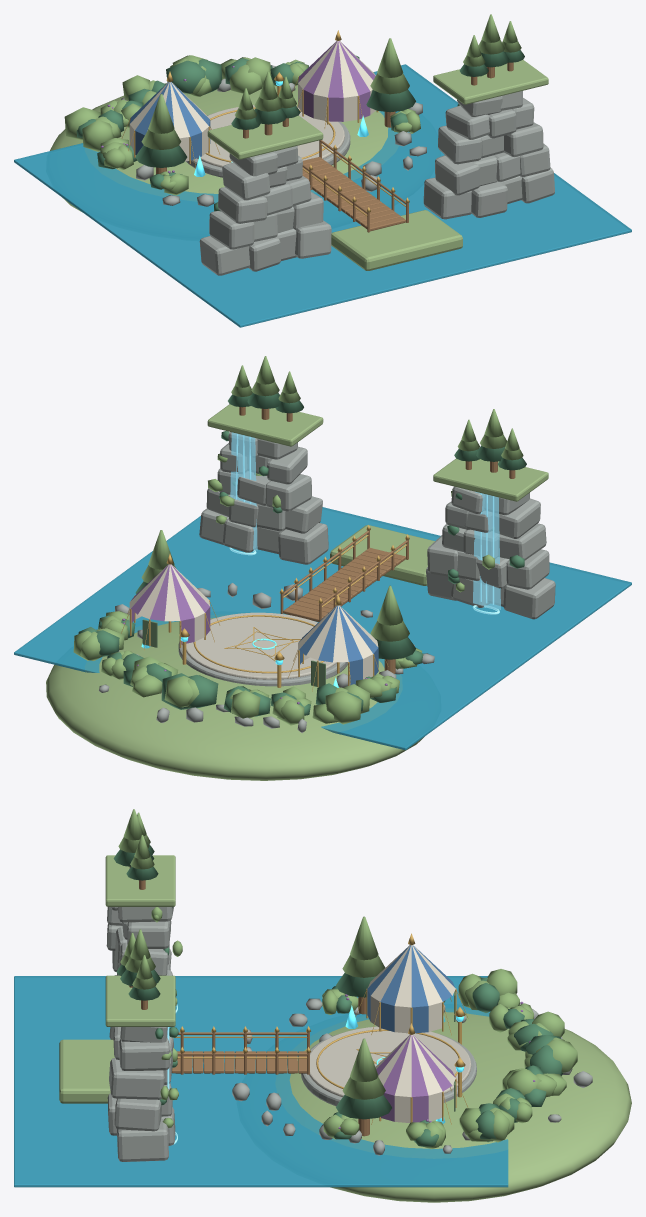
Rendered from moonlake_visible_r4_1.glb.
The picture shows the model from 3 angles, top to bottom: view 1: azimuth 30°, elevation 25°; view 2: azimuth 150°, elevation 25°; view 3: azimuth 270°, elevation 25°; orthographic projection. The views are drawn at different scales.
Parts seen in each view (by area): view 1: R4_LAKE_SURFACE, R4_MERGED_R4_CLIFF_RIGHT_MAT_CLIFF_STONE, R4_MERGED_R4_CLIFF_LEFT_MAT_CLIFF_STONE, R4_MERGED_R4_ENVIRONMENT_MAT_MOSS_LIGHT, R4_MERGED_R4_FOLIAGE_MAT_FOLIAGE_LIGHT, R4_MERGED_R4_FOLIAGE_MAT_FOLIAGE_DARK, R4_TENT_RIGHT_ASSEMBLY_CANOPY, R4_BRIDGE, R4_CLIFF_RIGHT_MOSS_CAP, R4_CLIFF_LEFT_MOSS_CAP, R4_TENT_LEFT_ASSEMBLY_CANOPY, R4_PLATFORM_TOP (+14 smaller); view 2: R4_LAKE_SURFACE, R4_MERGED_R4_ENVIRONMENT_MAT_MOSS_LIGHT, R4_MERGED_R4_CLIFF_LEFT_MAT_CLIFF_STONE, R4_MERGED_R4_CLIFF_RIGHT_MAT_CLIFF_STONE, R4_MERGED_R4_FOLIAGE_MAT_FOLIAGE_LIGHT, R4_PLATFORM_TOP, R4_MERGED_R4_FOLIAGE_MAT_FOLIAGE_DARK, R4_TENT_LEFT_ASSEMBLY_CANOPY, R4_TENT_RIGHT_ASSEMBLY_CANOPY, R4_BRIDGE, R4_CLIFF_RIGHT_MOSS_CAP, R4_CLIFF_LEFT_MOSS_CAP (+16 smaller); view 3: R4_LAKE_SURFACE, R4_MERGED_R4_ENVIRONMENT_MAT_MOSS_LIGHT, R4_MERGED_R4_FOLIAGE_MAT_FOLIAGE_LIGHT, R4_MERGED_R4_CLIFF_RIGHT_MAT_CLIFF_STONE, R4_MERGED_R4_FOLIAGE_MAT_FOLIAGE_DARK, R4_PLATFORM_TOP, R4_TENT_LEFT_ASSEMBLY_CANOPY, R4_TENT_RIGHT_ASSEMBLY_CANOPY, R4_MERGED_R4_CLIFF_LEFT_MAT_CLIFF_STONE, R4_CLIFF_LEFT_MOSS_CAP, R4_CLIFF_RIGHT_MOSS_CAP, R4_BRIDGE (+14 smaller).
Boxes of the visible parts, left/top/right/bottom form: R4_LAKE_SURFACE: left=14, top=64, right=631, bottom=327; R4_MERGED_R4_CLIFF_RIGHT_MAT_CLIFF_STONE: left=423, top=91, right=554, bottom=219; R4_MERGED_R4_CLIFF_LEFT_MAT_CLIFF_STONE: left=199, top=146, right=331, bottom=275; R4_MERGED_R4_ENVIRONMENT_MAT_MOSS_LIGHT: left=50, top=78, right=462, bottom=270; R4_MERGED_R4_FOLIAGE_MAT_FOLIAGE_LIGHT: left=64, top=55, right=420, bottom=195; R4_MERGED_R4_FOLIAGE_MAT_FOLIAGE_DARK: left=76, top=55, right=410, bottom=189; R4_TENT_RIGHT_ASSEMBLY_CANOPY: left=298, top=41, right=375, bottom=97; R4_BRIDGE: left=302, top=157, right=405, bottom=231; R4_CLIFF_RIGHT_MOSS_CAP: left=433, top=60, right=548, bottom=104; R4_CLIFF_LEFT_MOSS_CAP: left=207, top=115, right=323, bottom=159; R4_TENT_LEFT_ASSEMBLY_CANOPY: left=130, top=82, right=209, bottom=138; R4_PLATFORM_TOP: left=197, top=105, right=344, bottom=167; R4_LAKE_SURFACE: left=14, top=507, right=631, bottom=750; R4_MERGED_R4_ENVIRONMENT_MAT_MOSS_LIGHT: left=46, top=525, right=434, bottom=780; R4_MERGED_R4_CLIFF_LEFT_MAT_CLIFF_STONE: left=426, top=486, right=555, bottom=619; R4_MERGED_R4_CLIFF_RIGHT_MAT_CLIFF_STONE: left=199, top=432, right=328, bottom=564; R4_MERGED_R4_FOLIAGE_MAT_FOLIAGE_LIGHT: left=73, top=611, right=422, bottom=725; R4_PLATFORM_TOP: left=186, top=612, right=336, bottom=679; R4_MERGED_R4_FOLIAGE_MAT_FOLIAGE_DARK: left=78, top=615, right=423, bottom=716; R4_TENT_LEFT_ASSEMBLY_CANOPY: left=298, top=605, right=378, bottom=662; R4_TENT_RIGHT_ASSEMBLY_CANOPY: left=129, top=564, right=209, bottom=621; R4_BRIDGE: left=283, top=548, right=405, bottom=621; R4_CLIFF_RIGHT_MOSS_CAP: left=207, top=404, right=323, bottom=446; R4_CLIFF_LEFT_MOSS_CAP: left=433, top=458, right=548, bottom=501; R4_LAKE_SURFACE: left=14, top=976, right=508, bottom=1187; R4_MERGED_R4_ENVIRONMENT_MAT_MOSS_LIGHT: left=59, top=1009, right=631, bottom=1202; R4_MERGED_R4_FOLIAGE_MAT_FOLIAGE_LIGHT: left=322, top=969, right=577, bottom=1149; R4_MERGED_R4_CLIFF_RIGHT_MAT_CLIFF_STONE: left=107, top=1027, right=175, bottom=1161; R4_MERGED_R4_FOLIAGE_MAT_FOLIAGE_DARK: left=332, top=977, right=563, bottom=1146; R4_PLATFORM_TOP: left=309, top=1026, right=471, bottom=1096; R4_TENT_LEFT_ASSEMBLY_CANOPY: left=367, top=945, right=455, bottom=1007; R4_TENT_RIGHT_ASSEMBLY_CANOPY: left=375, top=1034, right=455, bottom=1096; R4_MERGED_R4_CLIFF_LEFT_MAT_CLIFF_STONE: left=106, top=907, right=173, bottom=1039; R4_CLIFF_LEFT_MOSS_CAP: left=105, top=855, right=175, bottom=906; R4_CLIFF_RIGHT_MOSS_CAP: left=105, top=975, right=175, bottom=1026; R4_BRIDGE: left=172, top=1051, right=306, bottom=1073.
Bounding box in the file's own units: 24 × 14.3 × 30.
